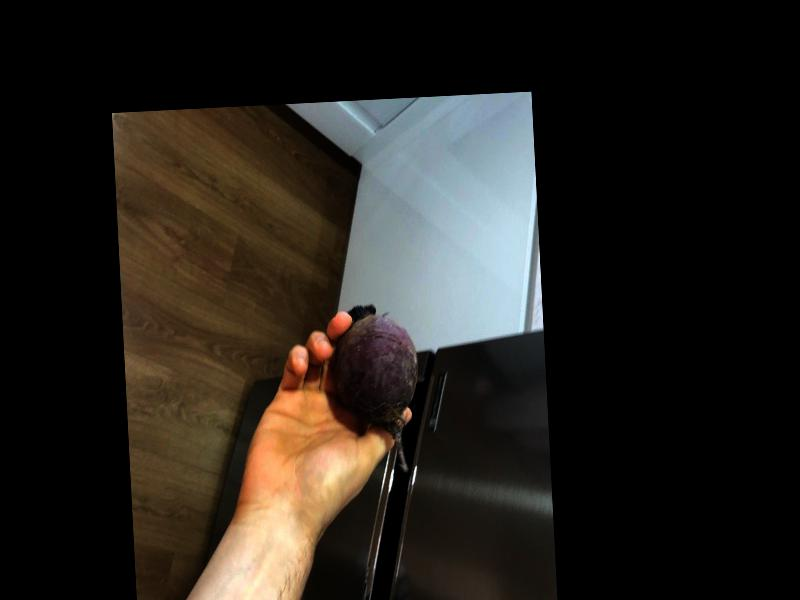Beet: (333, 301, 421, 473)
